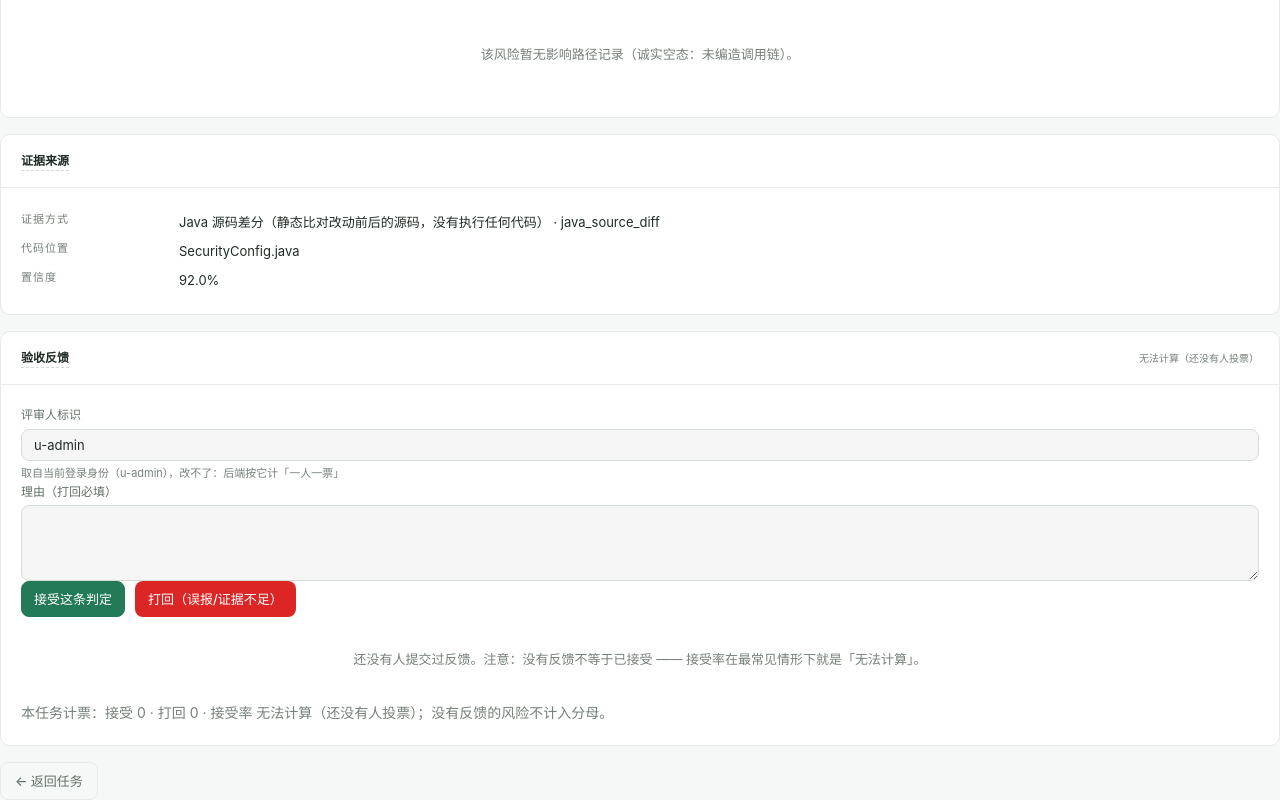
it: FindingDetail 投票权限 (#116) — a button the server would refuse › explains a 403 the page could not predict instead of printing the bare code
(page scrolled)
Step 1. Click the button "接受这条判定" → (73, 599), box top-left (21, 581), bottom-right (125, 617)
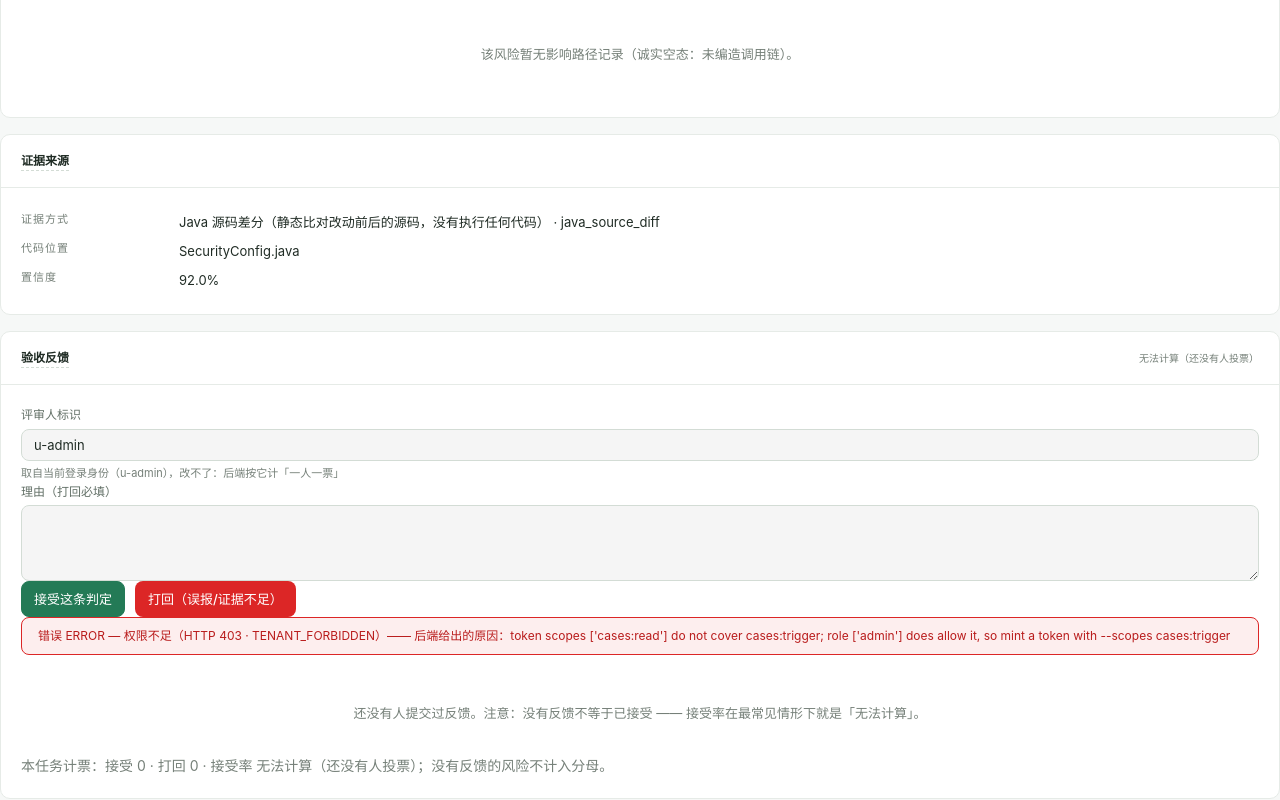
Expected: the text "权限不足" shows "HTTP 403 · TENANT_FORBIDDEN", top-left (38, 628), bottom-right (1230, 643)
Expected: the text "权限不足" shows "mint a token with --scopes cases:trigger", top-left (38, 628), bottom-right (1230, 643)
